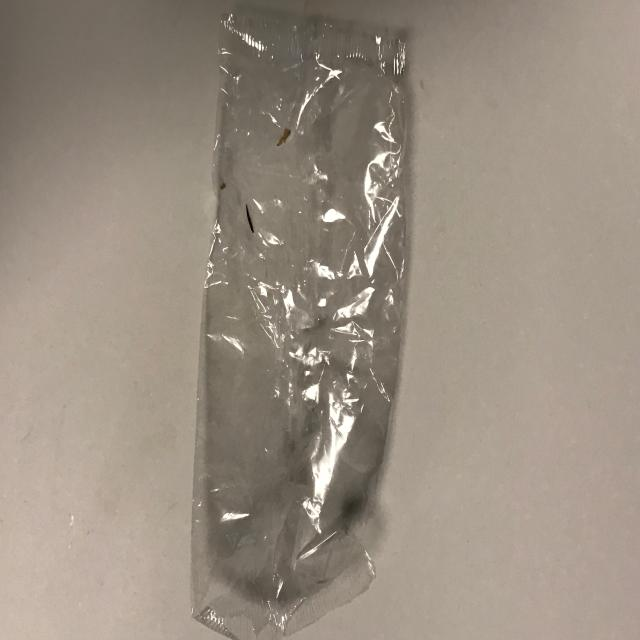trash: (190, 6, 410, 637)
